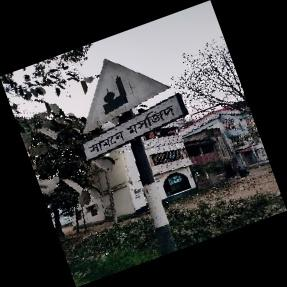Mosque in front: (80, 57, 189, 162)
